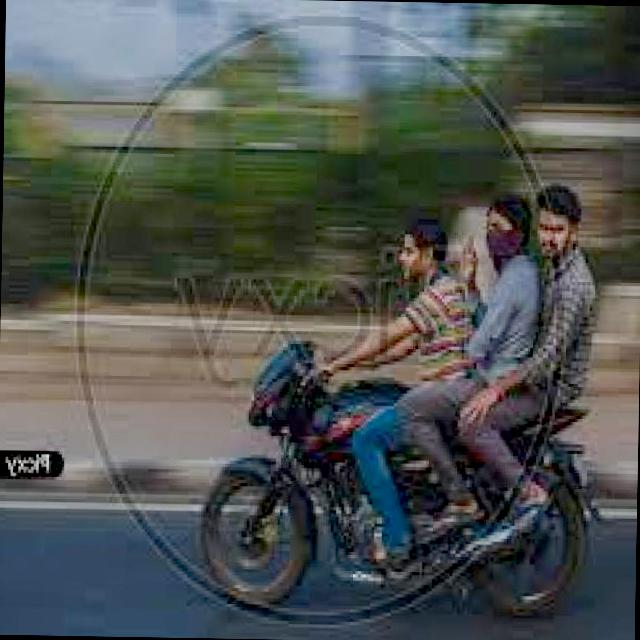motorcycle: (198, 337, 608, 615)
person: (499, 176, 598, 429), (457, 181, 546, 443), (374, 216, 468, 444)
